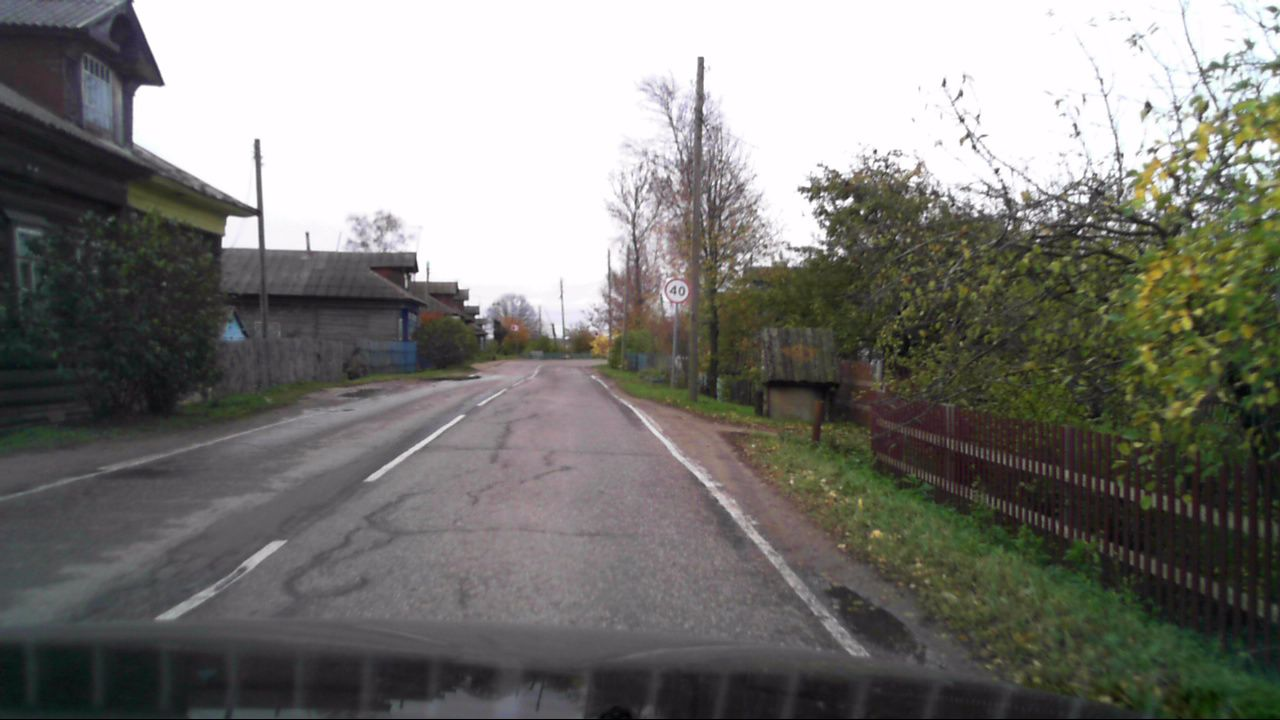speed_warning_40: (664, 277, 690, 303)
